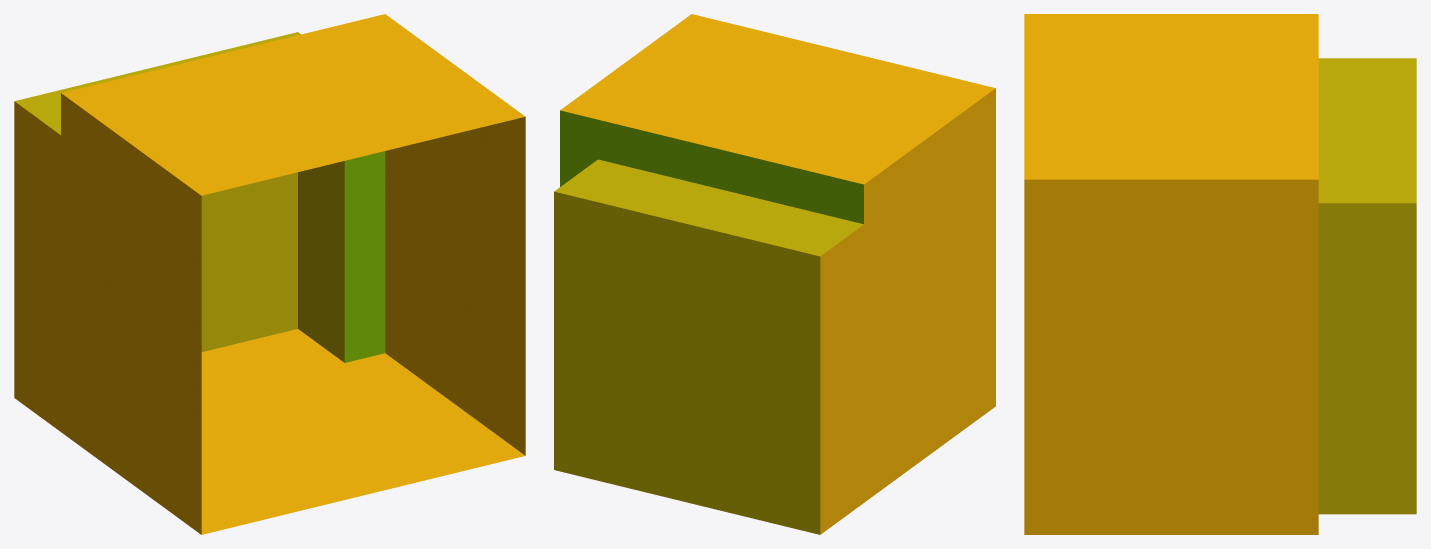
The model's file is slitted_block_edge_corner_1.dae.
The picture shows the model from 3 angles, left to right: view 1: azimuth 30°, elevation 25°; view 2: azimuth 150°, elevation 25°; view 3: azimuth 270°, elevation 25°; orthographic projection. The views are drawn at different scales.
Parts seen in each view (by area): view 1: Cube; view 2: Cube; view 3: Cube.
Part boxes in pixels (left/top/right/bottom): Cube: left=14, top=14, right=525, bottom=534; Cube: left=554, top=14, right=995, bottom=534; Cube: left=1024, top=14, right=1416, bottom=534.
Bounding box in the file's own units: 0.25 × 0.25 × 0.25.
